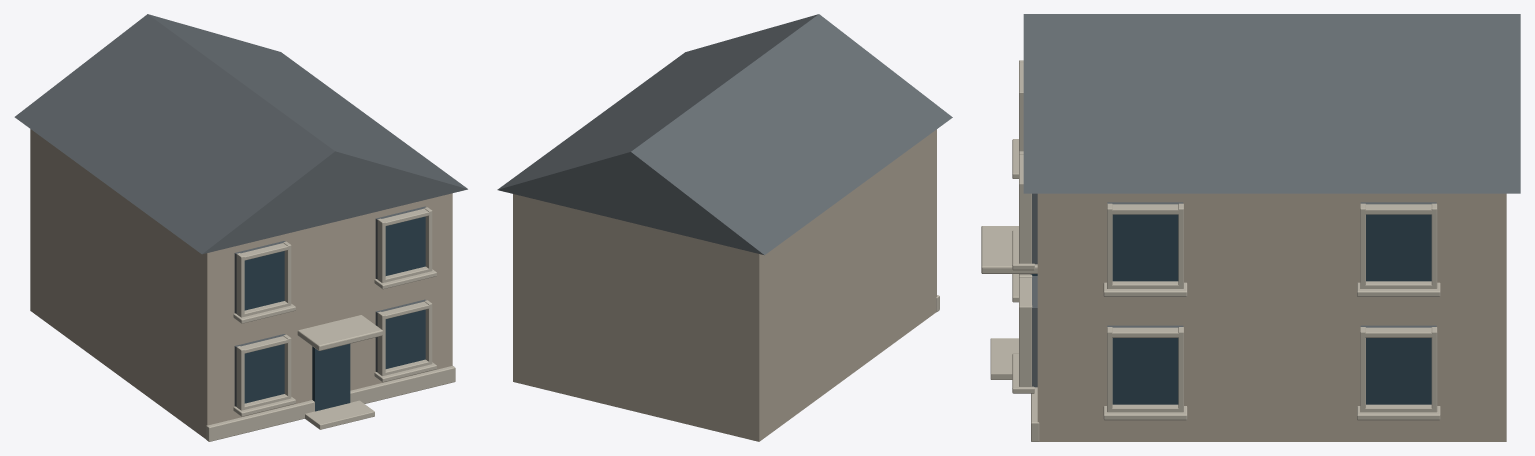
File: detached-house-graphic.glb
3 views of the same model, side by side, from view 1: azimuth 30°, elevation 25°; view 2: azimuth 150°, elevation 25°; view 3: azimuth 270°, elevation 25° (orthographic). The views are drawn at different scales.
Parts seen in each view (by area): view 1: roof, wall, stone, glass; view 2: wall, roof; view 3: roof, wall, stone, glass.
Part boxes in pixels (<box>): roof: <box>14,14,467,406</box>; wall: <box>30,129,452,439</box>; stone: <box>206,207,455,441</box>; glass: <box>244,216,425,411</box>; wall: <box>513,129,936,441</box>; roof: <box>497,14,952,255</box>; roof: <box>1023,14,1520,387</box>; wall: <box>1037,193,1506,441</box>; stone: <box>981,60,1440,441</box>; glass: <box>1030,214,1431,404</box>.
Size of the model in its own units: 8.89 by 8.2 by 11.5.
